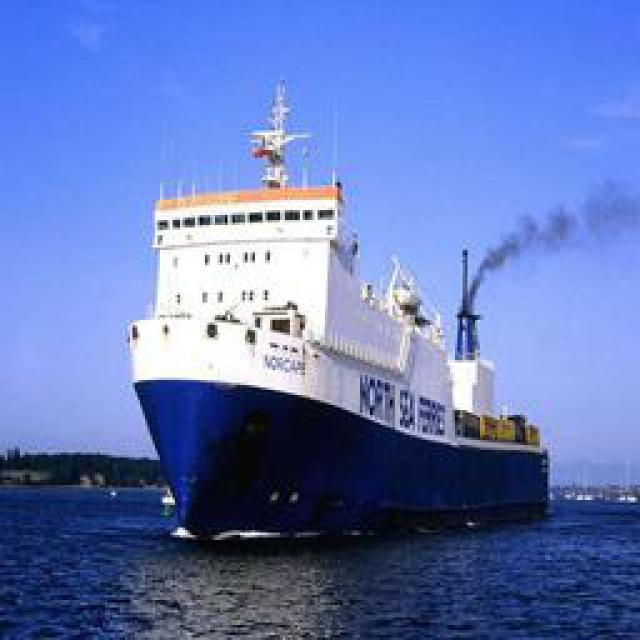Ship: (131, 50, 561, 530)
